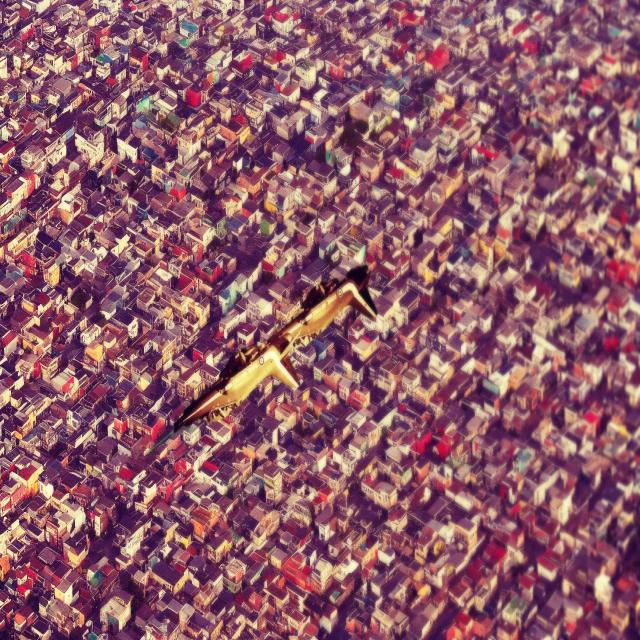airplane: (177, 250, 378, 429)
